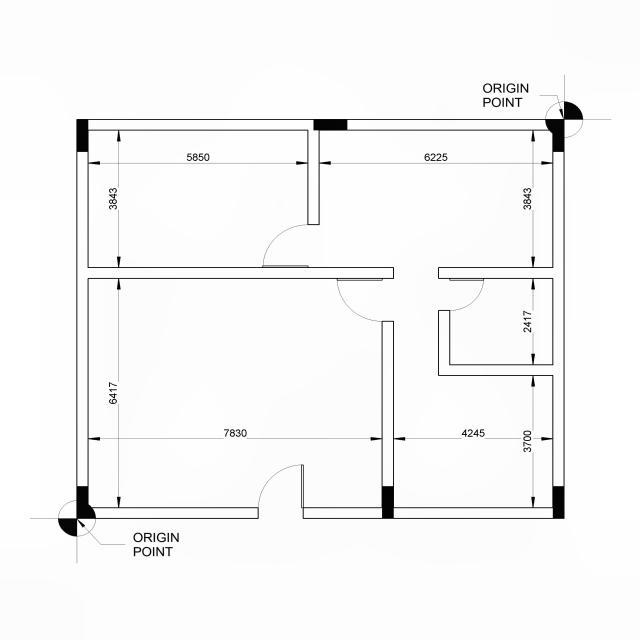Column: (552, 486, 565, 519), (552, 119, 564, 152), (382, 486, 394, 519), (76, 486, 88, 519), (76, 119, 88, 152), (314, 119, 348, 130)
Door: (336, 278, 394, 322), (262, 225, 320, 268), (258, 464, 304, 518), (438, 278, 484, 310)
